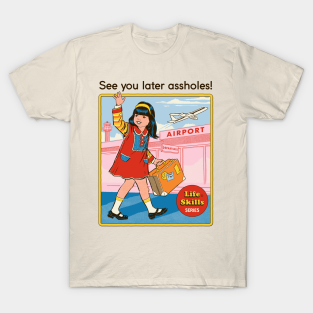design: (97, 78, 215, 228)
